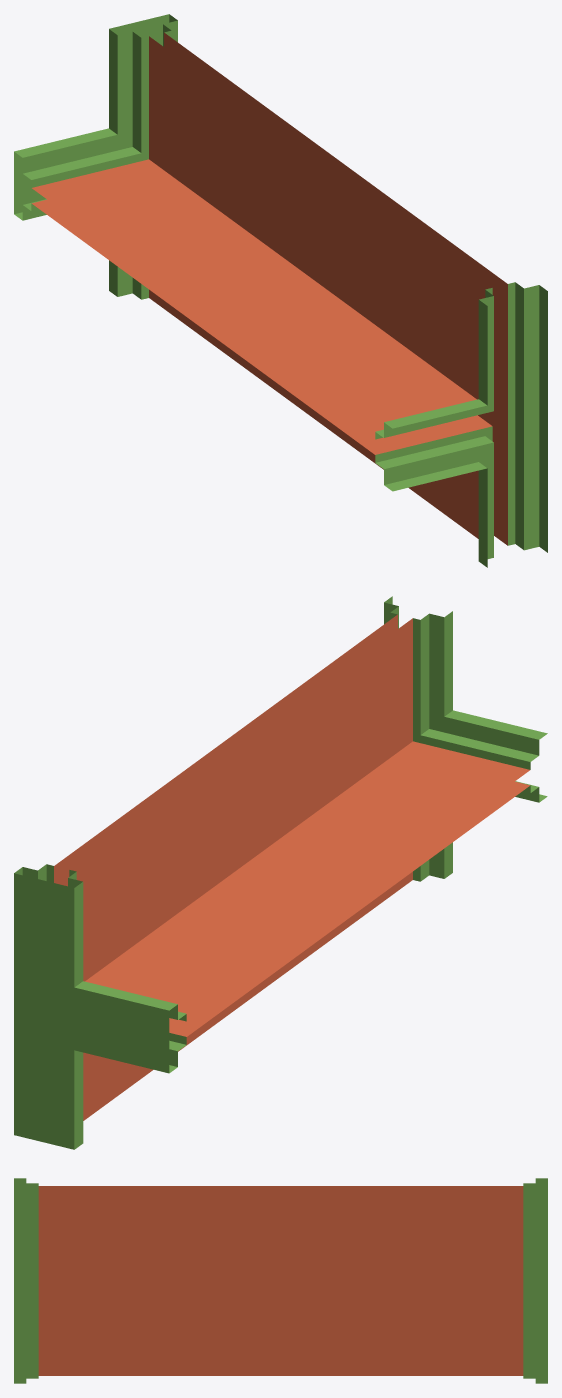
The model's file is Env_Wall_TB.fbx.
3 renders of one model, top to bottom at view 1: azimuth 30°, elevation 25°; view 2: azimuth 150°, elevation 25°; view 3: azimuth 270°, elevation 25°, orthographic. The views are drawn at different scales.
Parts seen in each view (by area): view 1: Env_Wall_TB; view 2: Env_Wall_TB; view 3: Env_Wall_TB.
Boxes of the visible parts, x1=… form: Env_Wall_TB: x1=14, y1=14, x2=547, y2=567; Env_Wall_TB: x1=14, y1=596, x2=547, y2=1149; Env_Wall_TB: x1=14, y1=1178, x2=547, y2=1383.
Size of the model in its own units: 0.6209 by 1 by 2.62.
